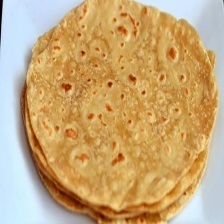roti: (17, 0, 224, 224)
